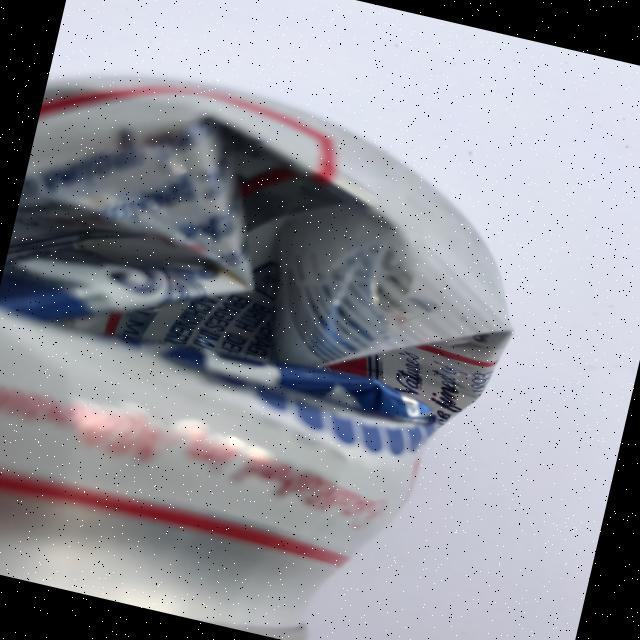metal: (0, 46, 553, 640)
